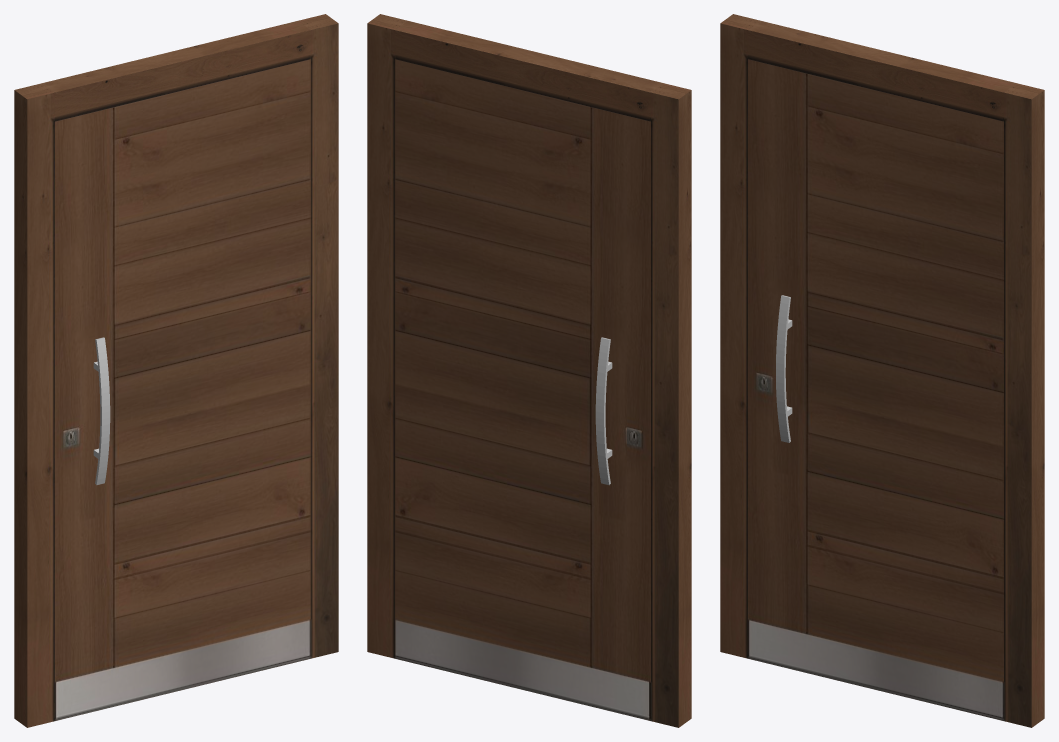
Rendered from frontDoor2.glb.
3 renders of one model, left to right at view 1: azimuth 30°, elevation 25°; view 2: azimuth 150°, elevation 25°; view 3: azimuth 330°, elevation 25°, orthographic.
Size of the model in its own units: 112 by 216 by 19.97.
Materials: 9 (7 with a texture image).
